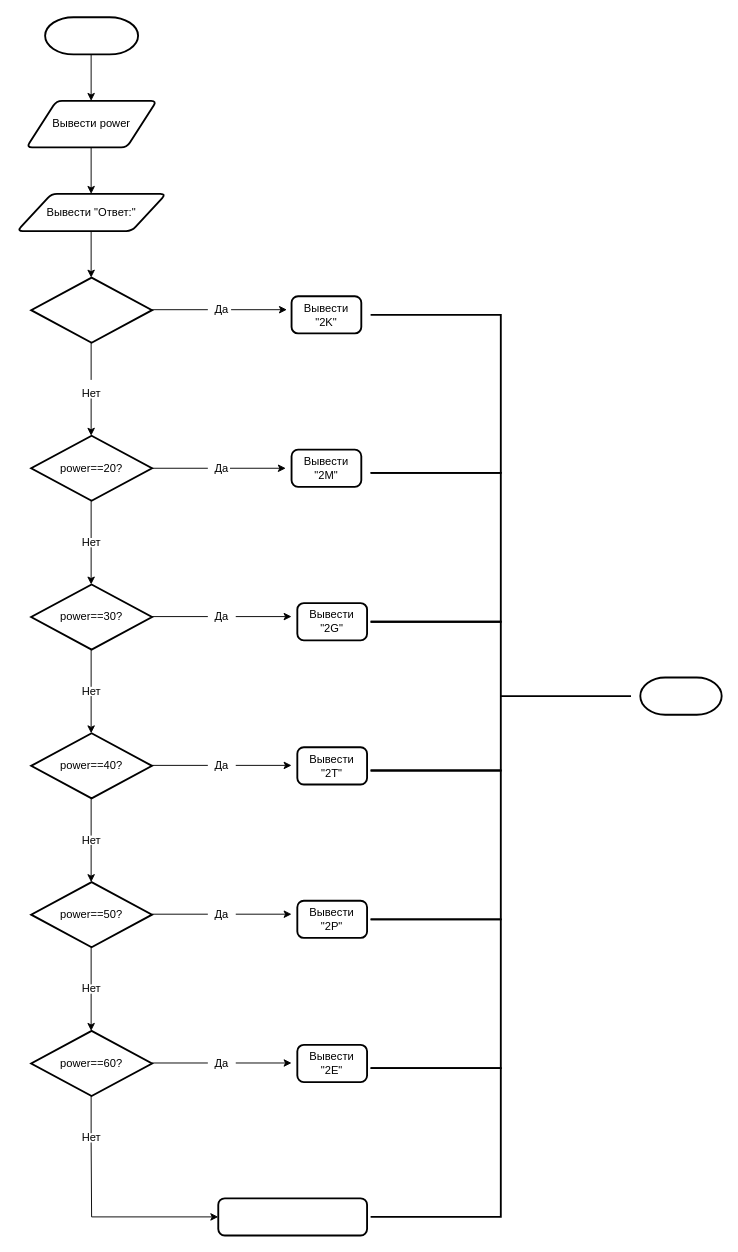
Some shapes in this 738 by 1252 pixel diagram are drawn without their labels. The shapes that lost their labels are listed below. From the top down, each one's centre as x and y in pixels, then its label:
At point 91,35: "Начало".
At point 91,309: "power==10?".
At point 680,695: "Конец".
At point 292,1216: "Вывести: ''Неизвестная приставка''".
